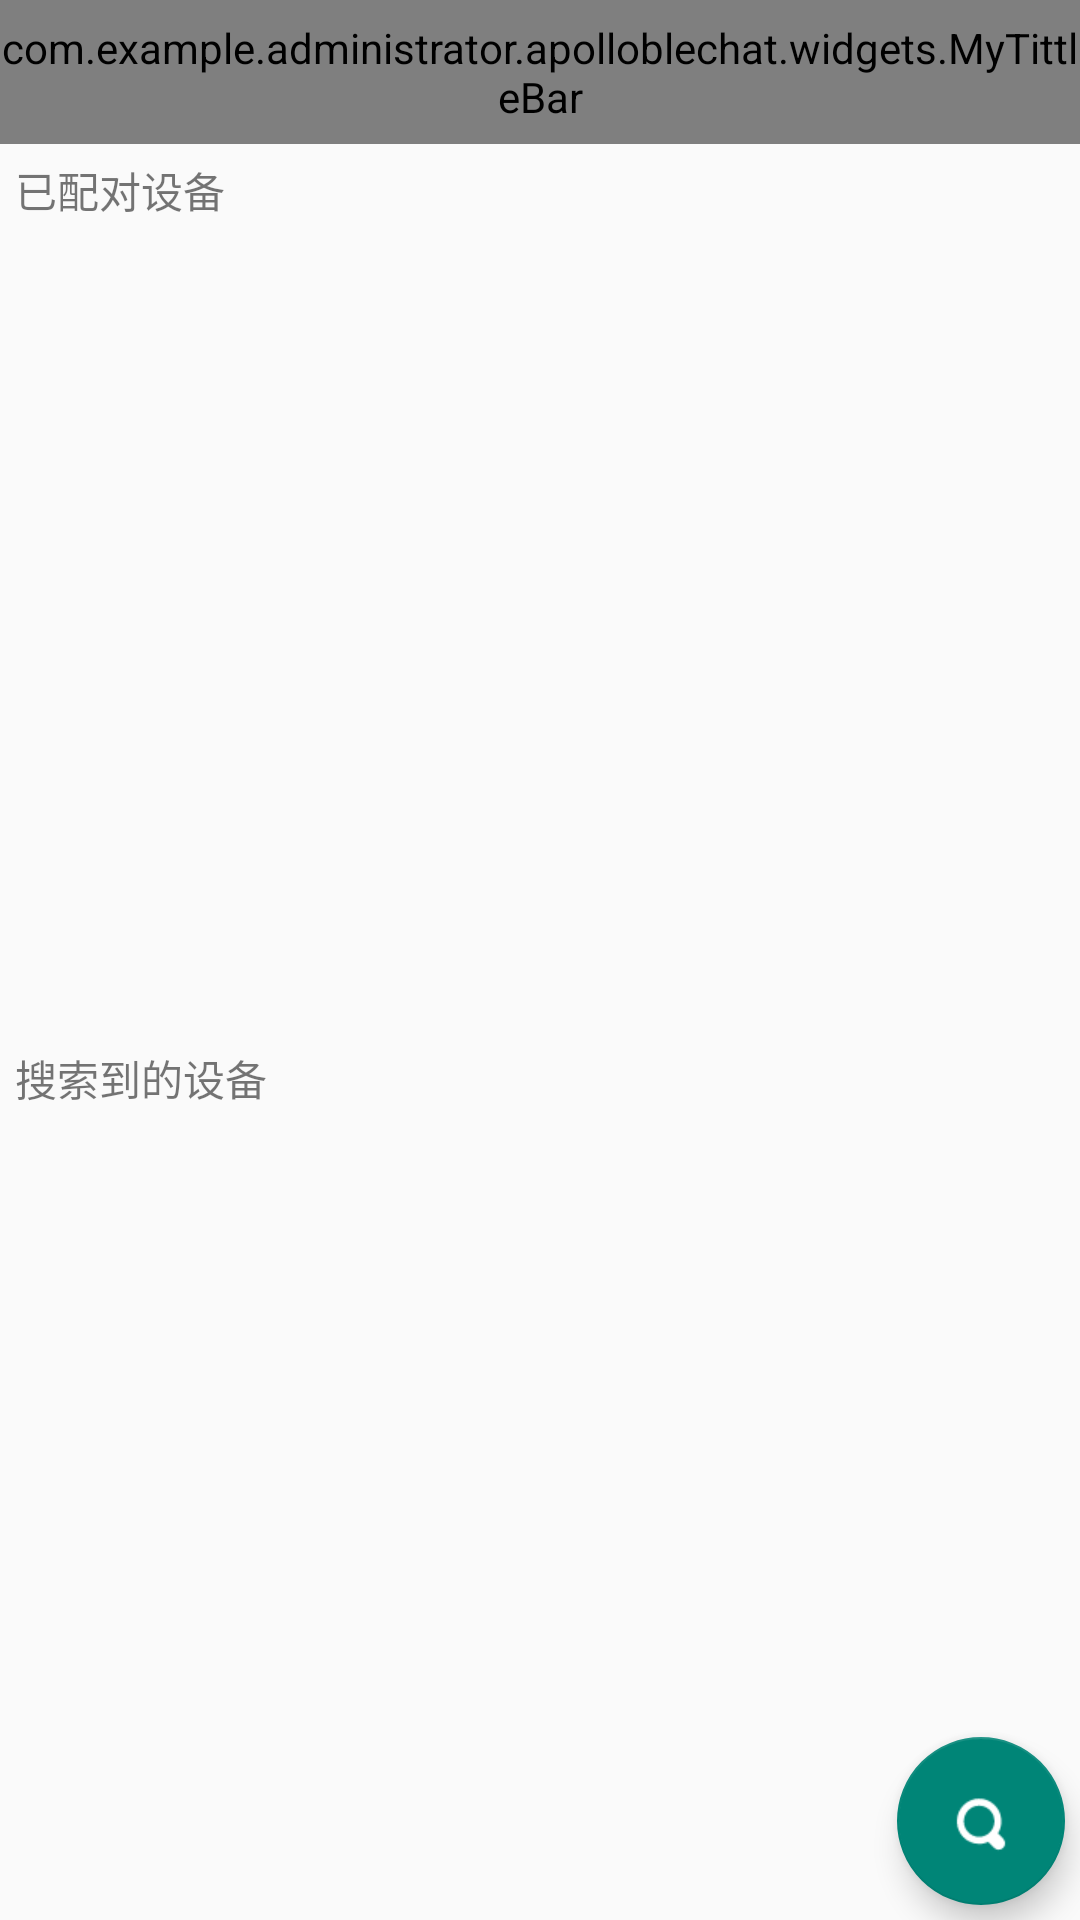

Where to tap for icons on this 1080x1920 app screen, as (x=x, y=y):
search: (x=981, y=1821)
